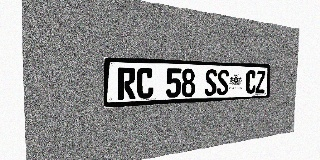5: (166, 68, 181, 98)
8: (181, 69, 195, 97)
C: (136, 67, 154, 99), (245, 70, 256, 94)
R: (117, 67, 136, 100)
S: (204, 69, 217, 96), (217, 69, 229, 95)
Z: (256, 70, 266, 94)
